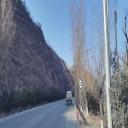speed_limit_60: (79, 78, 83, 88)
